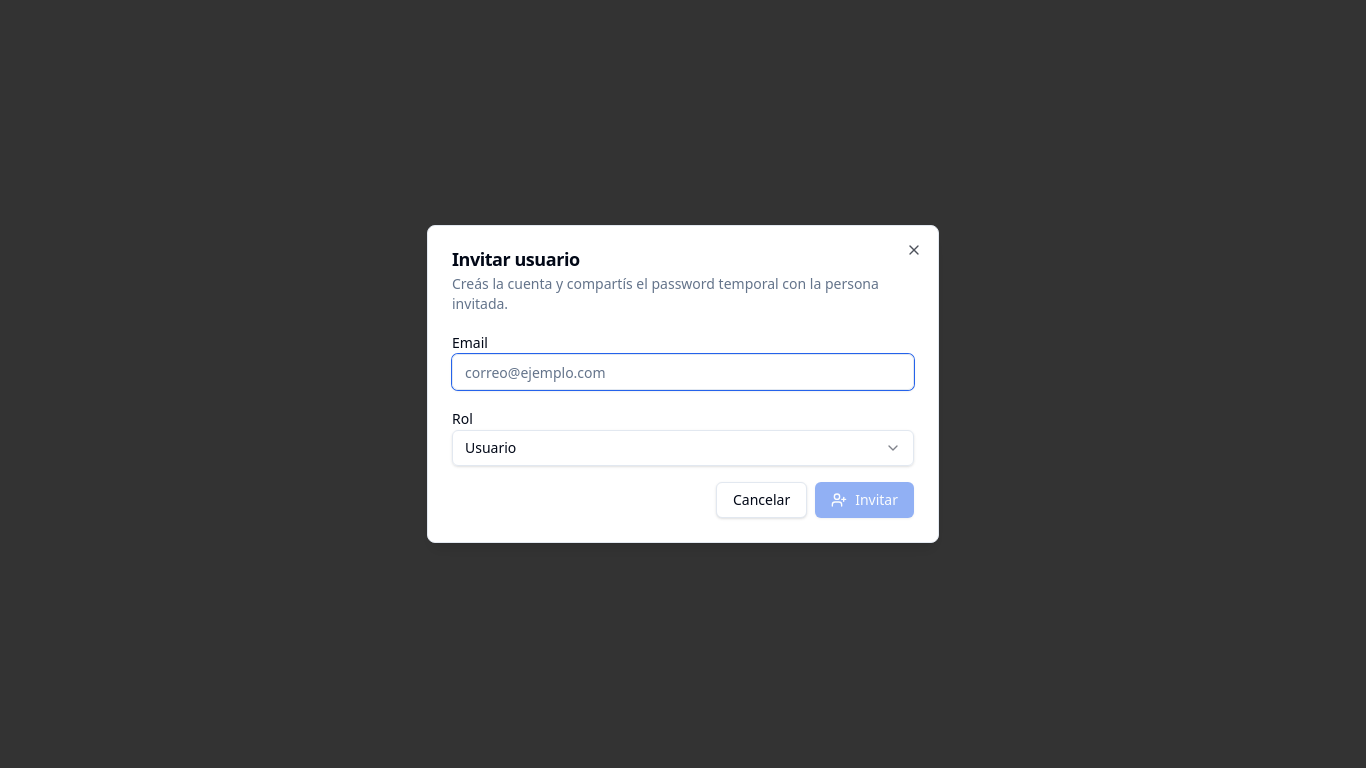
Scenario: DialogoInvitar: gating de rol › administrador ve el selector con los tres roles
Click the dropdown named "Rol inicial" at {"x": 491, "y": 448}, box [452,430,914,466]
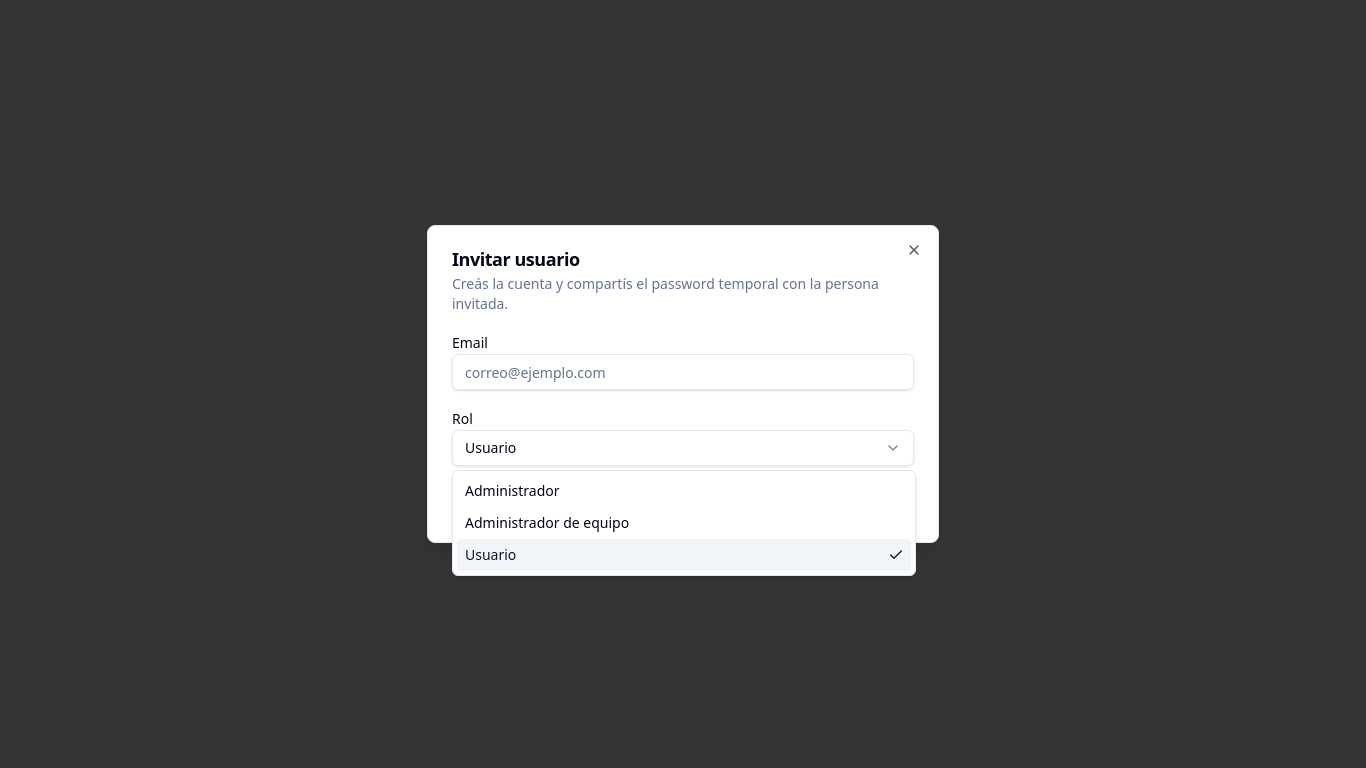
Expected: the options read "Administrador", "Administrador de equipo", "Usuario", in this order, [465,481,560,500]; [465,513,629,532]; [457,539,911,571]
